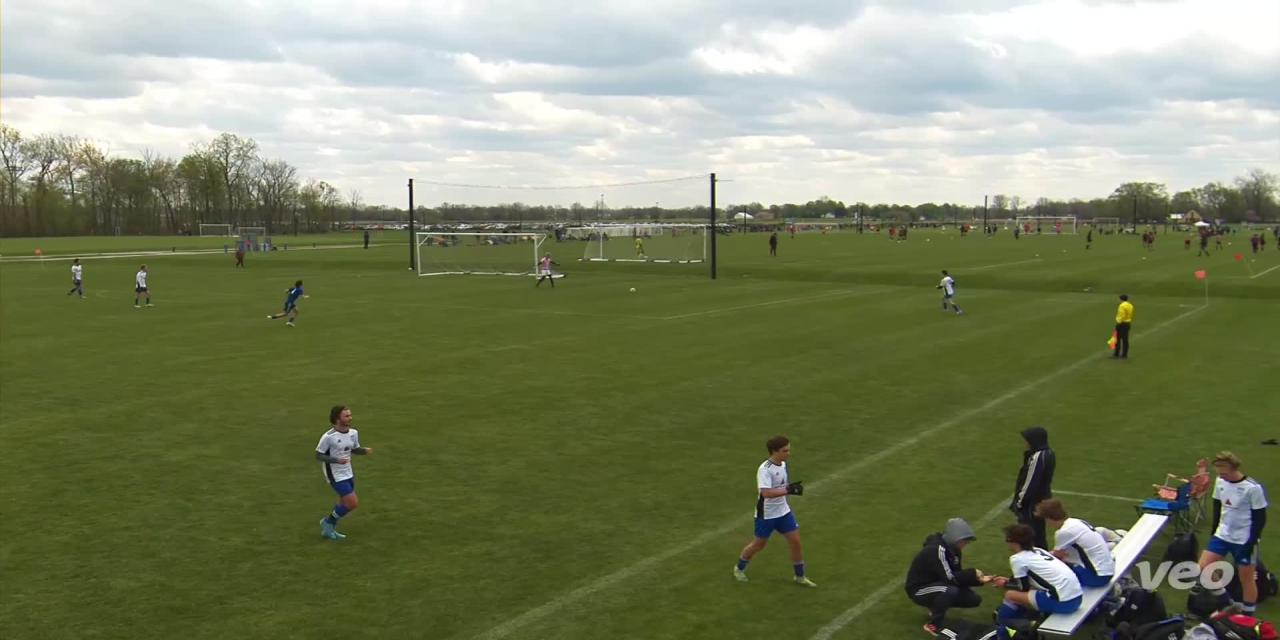goal: (388, 213, 576, 287)
sports ball: (625, 286, 642, 297)
